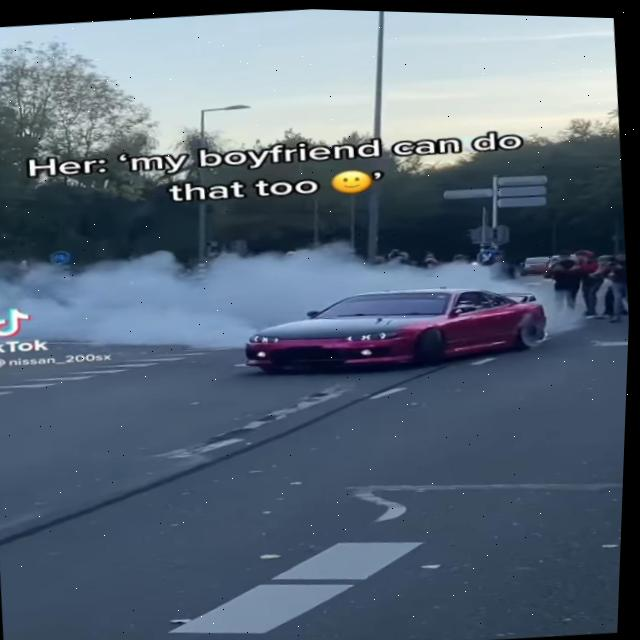vehicle: (239, 266, 559, 380)
